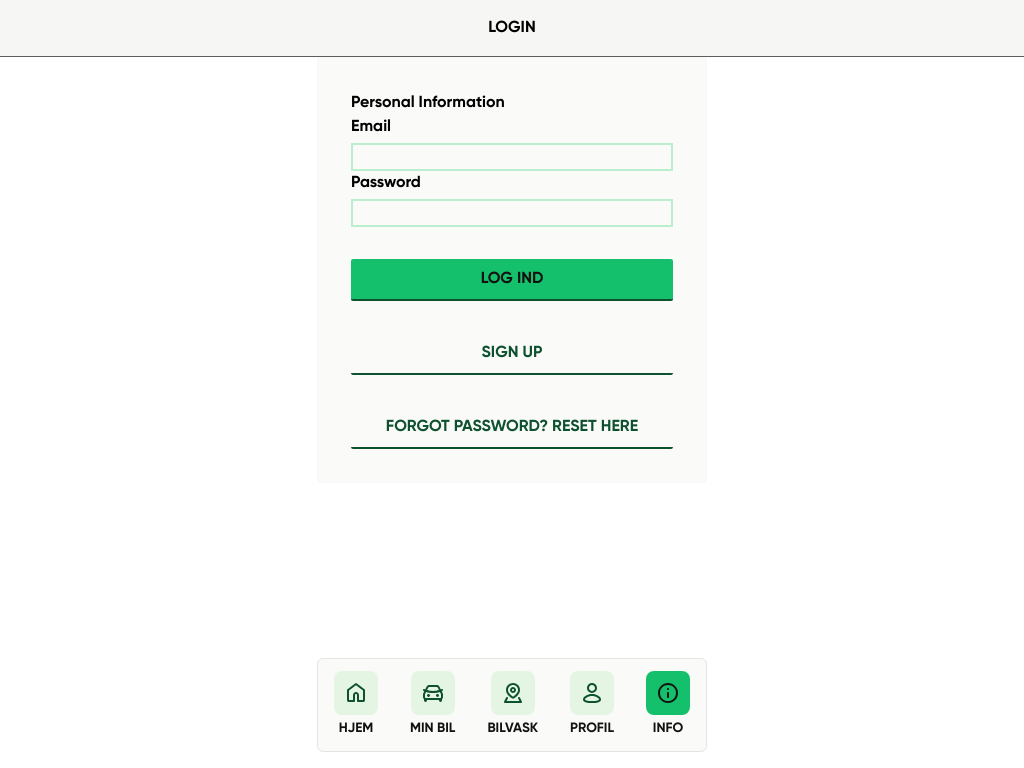
Signup › should show validation hints when a field is focused
Click the button with id "signup" at (512,354), box [351,333,673,375]
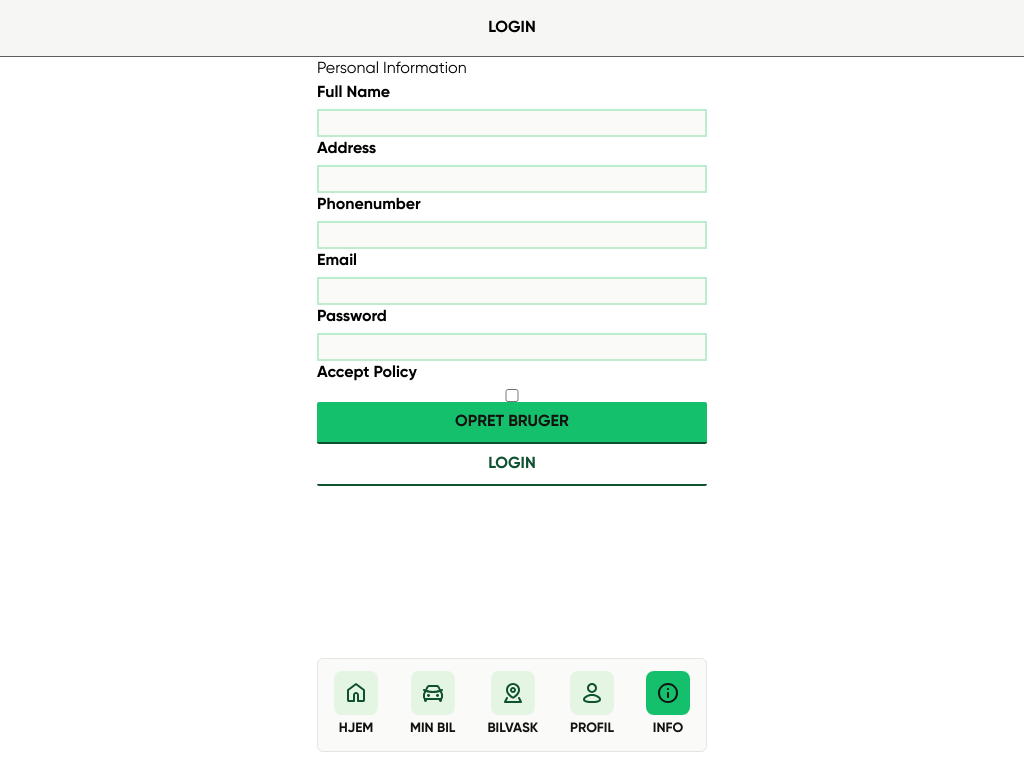
Expected: the form with id "signupform" is shown, [317,57,707,486]
Click the password field named "user_password" at (512,347), box [317,333,707,361]
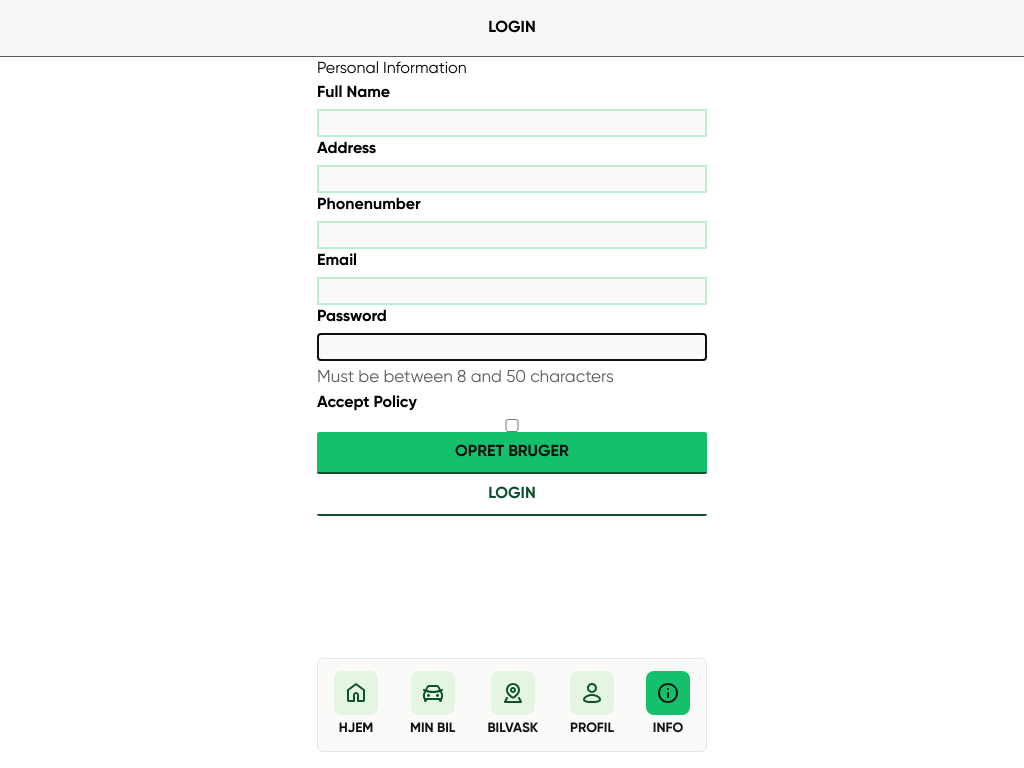
Expected: the text "Must be between 8 and 50 characters" is shown, [317,369,614,386]
